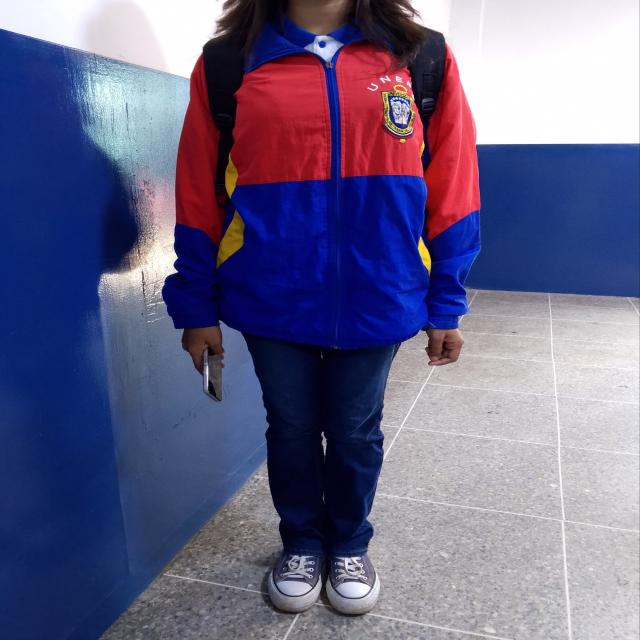chaqueta_unefa: (159, 8, 488, 354)
pantalon_oscuro: (239, 329, 405, 559)
